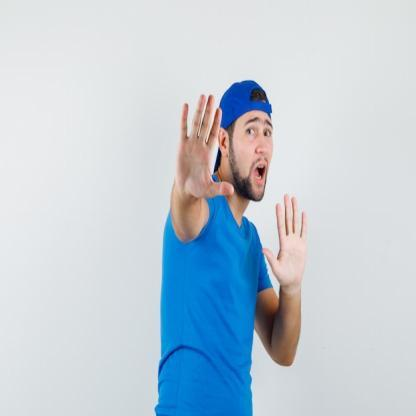stop: (172, 89, 236, 204), (260, 190, 308, 289)
